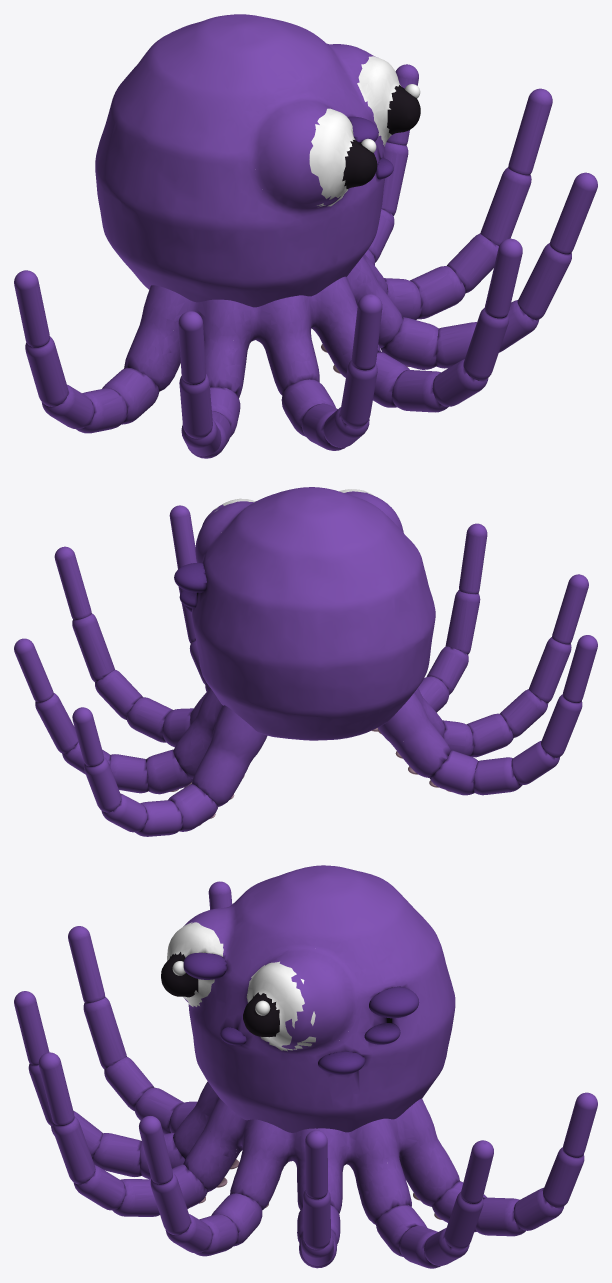
File: kan-ni-dampa-er-lite.glb
3 renders of one model, top to bottom at view 1: azimuth 30°, elevation 25°; view 2: azimuth 150°, elevation 25°; view 3: azimuth 270°, elevation 25°, orthographic. The views are drawn at different scales.
Parts seen in each view (by area): view 1: polvo__r0, tentaculos__r0, tentaculos__r3, tentaculos__r4, tentaculos__r105, tentaculos__r95, tentaculos__r106, tentaculos__r88, tentaculos__r89, tentaculos__r39, tentaculos__r40, tentaculos__r115 (+22 smaller); view 2: polvo__r0, tentaculos__r0, tentaculos__r3, tentaculos__r55, tentaculos__r4, tentaculos__r71, tentaculos__r39, tentaculos__r56, tentaculos__r73, tentaculos__r81, tentaculos__r110, tentaculos__r9 (+20 smaller); view 3: polvo__r0, tentaculos__r0, tentaculos__r55, tentaculos__r56, tentaculos__r88, tentaculos__r65, tentaculos__r89, tentaculos__r73, tentaculos__r106, tentaculos__r105, tentaculos__r4, tentaculos__r36 (+27 smaller).
Boxes of the visible parts, x1,y1,x2,y2 form: polvo__r0: (95,14,420,307); tentaculos__r0: (124,254,403,397); tentaculos__r3: (480,167,531,245); tentaculos__r4: (508,88,552,175); tentaculos__r105: (517,243,571,320); tentaculos__r95: (380,317,438,369); tentaculos__r106: (550,172,597,254); tentaculos__r88: (463,307,508,380); tentaculos__r89: (485,238,522,318); tentaculos__r39: (25,336,68,406); tentaculos__r40: (14,270,49,347); tentaculos__r115: (410,266,465,319); polvo__r0: (192,487,435,740); tentaculos__r0: (173,687,450,806); tentaculos__r3: (72,613,114,682); tentaculos__r55: (529,637,571,702); tentaculos__r4: (54,546,91,619); tentaculos__r71: (445,590,480,654); tentaculos__r39: (541,694,582,757); tentaculos__r56: (552,574,588,644); tentaculos__r73: (459,523,487,593); tentaculos__r81: (430,750,477,795); tentaculos__r110: (473,757,522,795); tentaculos__r9: (146,749,192,794); polvo__r0: (161,865,455,1132); tentaculos__r0: (173,1081,459,1224); tentaculos__r55: (83,996,126,1069); tentaculos__r56: (68,926,104,1003); tentaculos__r88: (52,1116,95,1184); tentaculos__r65: (92,1133,141,1176); tentaculos__r89: (38,1052,74,1125); tentaculos__r73: (14,991,49,1065); tentaculos__r106: (139,1116,172,1184); tentaculos__r105: (150,1173,190,1235); tentaculos__r4: (305,1130,327,1199); tentaculos__r36: (543,1147,584,1207).
Bounding box in the file's own units: 1.98 × 1.14 × 1.86.
